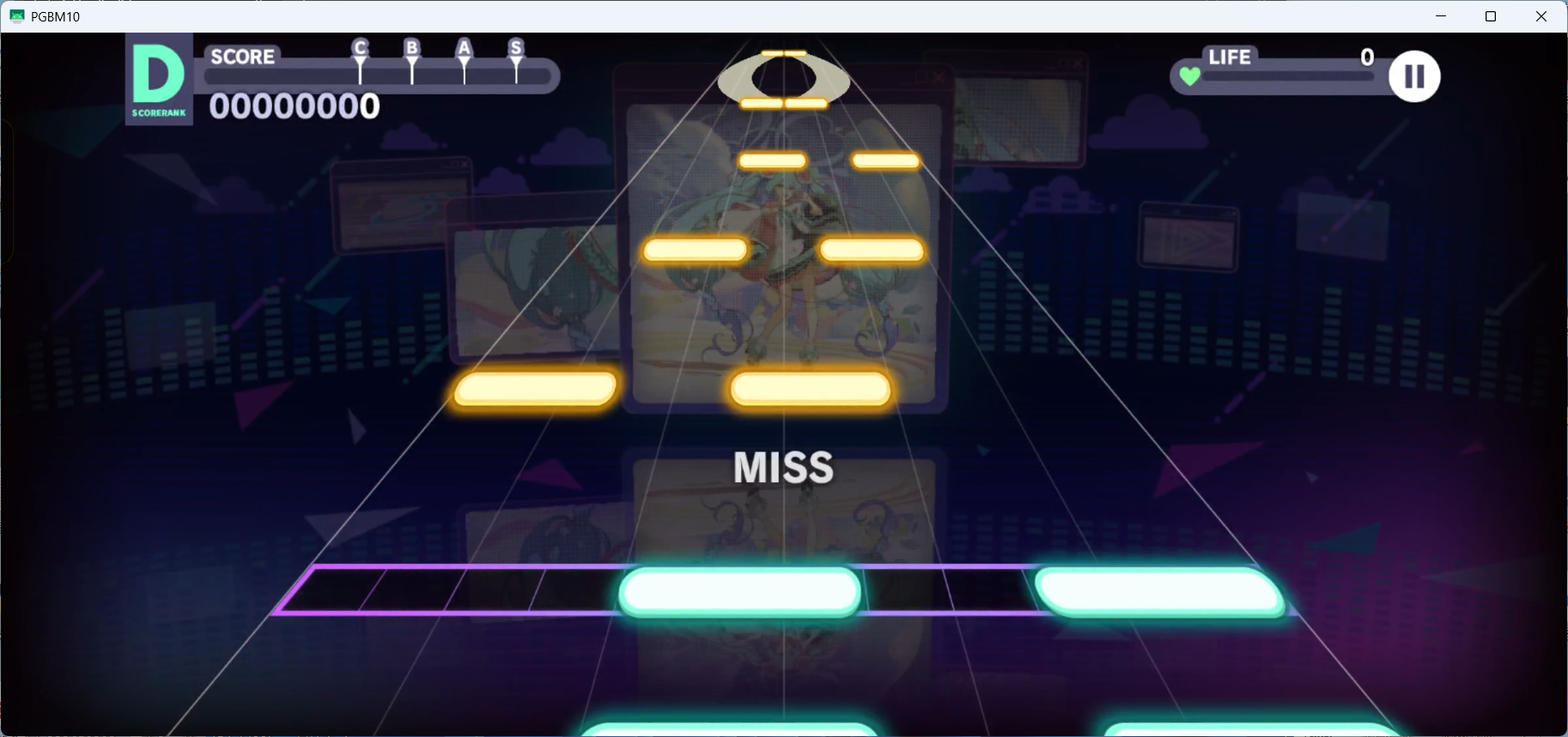hold: (792, 57, 850, 99), (717, 57, 772, 98)
tap: (1032, 565, 1285, 620), (619, 567, 860, 619), (732, 370, 890, 407), (453, 373, 617, 407), (641, 238, 747, 262), (819, 238, 923, 262), (853, 154, 920, 168), (739, 154, 805, 168), (740, 98, 783, 109), (784, 99, 827, 109), (762, 50, 783, 57), (785, 50, 806, 56)
